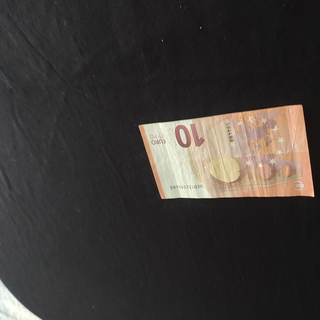10EUROBack: (138, 104, 314, 199)
